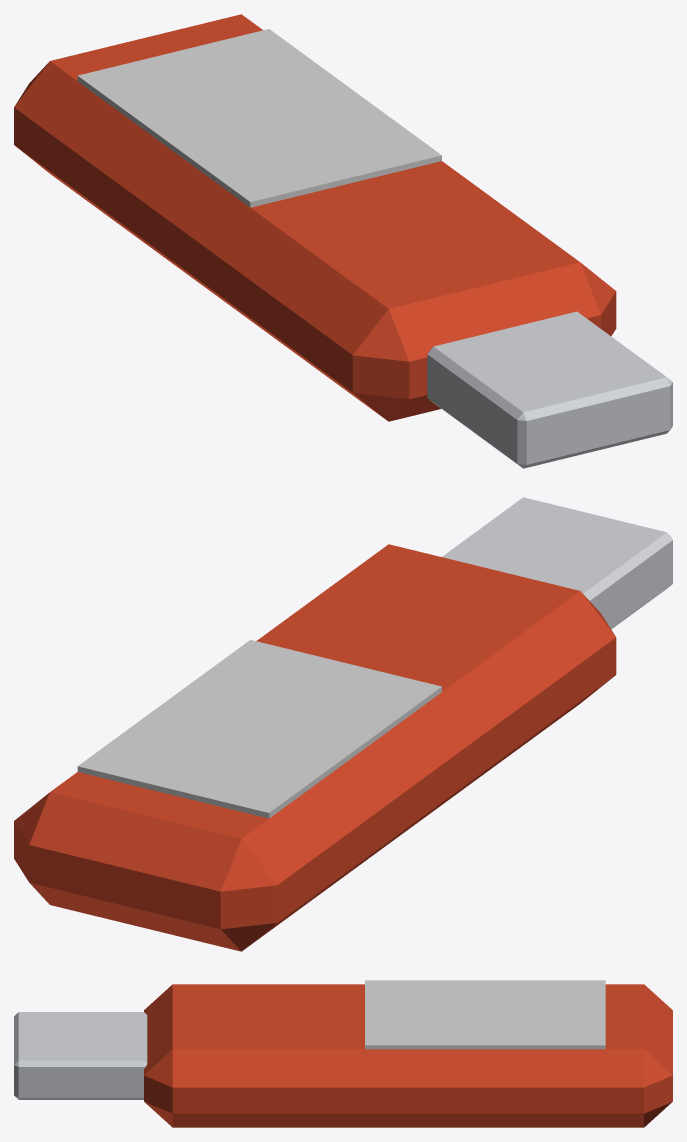
File: pendrive_coleta.obj
3 views of the same model, one above another, from view 1: azimuth 30°, elevation 25°; view 2: azimuth 150°, elevation 25°; view 3: azimuth 270°, elevation 25° (orthographic). The views are drawn at different scales.
Parts seen in each view (by area): view 1: pendrive_coleta; view 2: pendrive_coleta; view 3: pendrive_coleta.
Part boxes in pixels (<box>): pendrive_coleta: <box>14,14,672,468</box>; pendrive_coleta: <box>14,497,672,951</box>; pendrive_coleta: <box>14,980,672,1127</box>.
Size of the model in its own units: 0.022 by 0.00945 by 0.0685.
